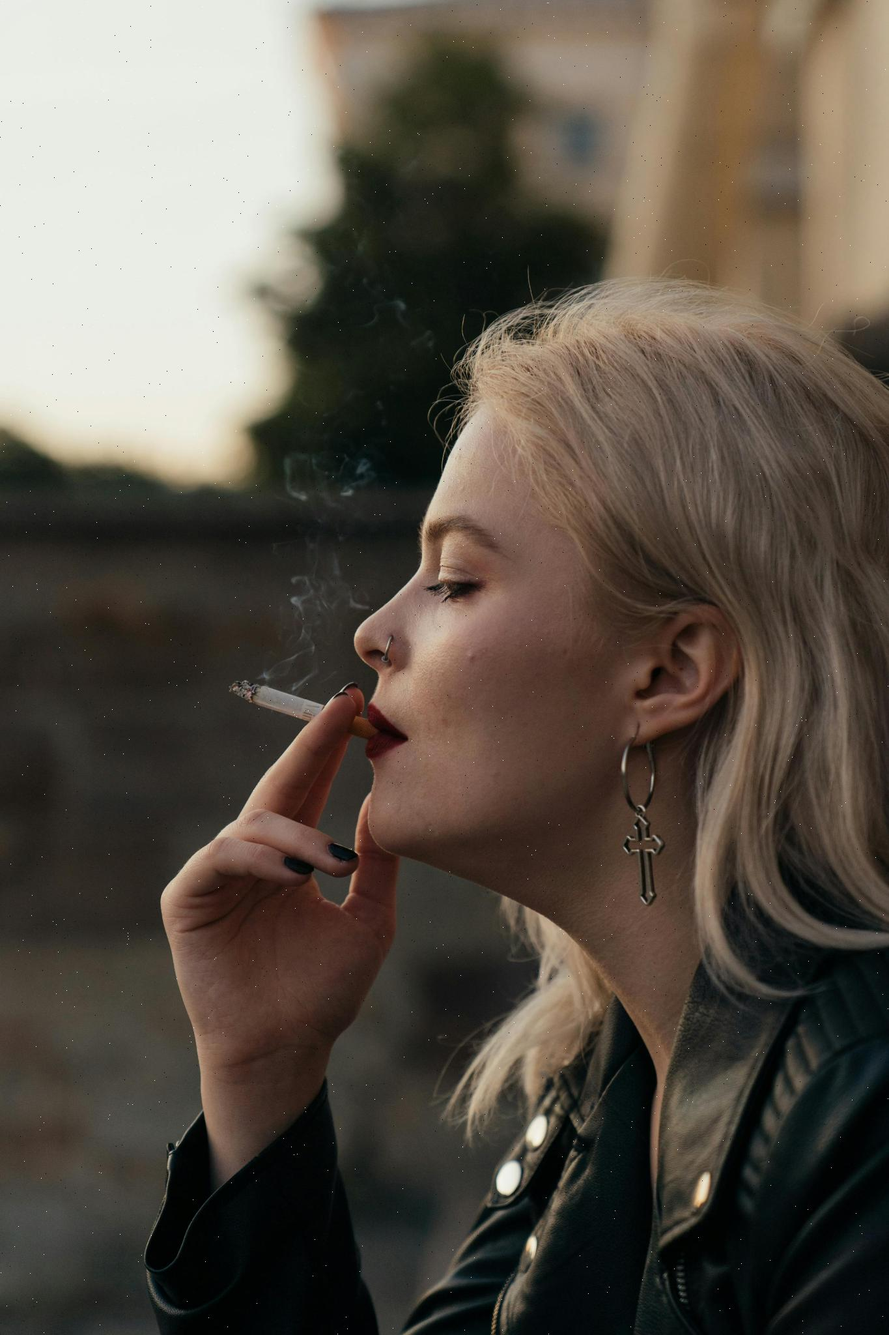cigarette: (230, 681, 324, 720)
